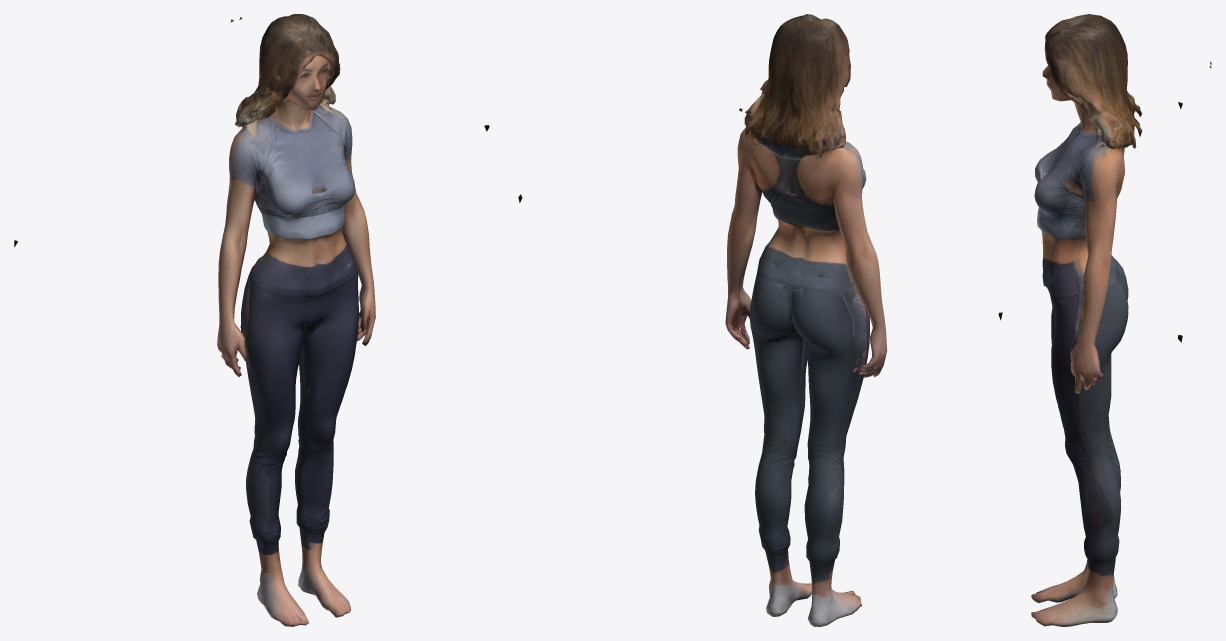
File: meshy-woman.glb
3 renders of one model, left to right at view 1: azimuth 30°, elevation 25°; view 2: azimuth 150°, elevation 25°; view 3: azimuth 270°, elevation 25°, orthographic.
Bounding box in the file's own units: 1.7 × 2 × 0.5537.
Materials: 1 (1 with a texture image).
